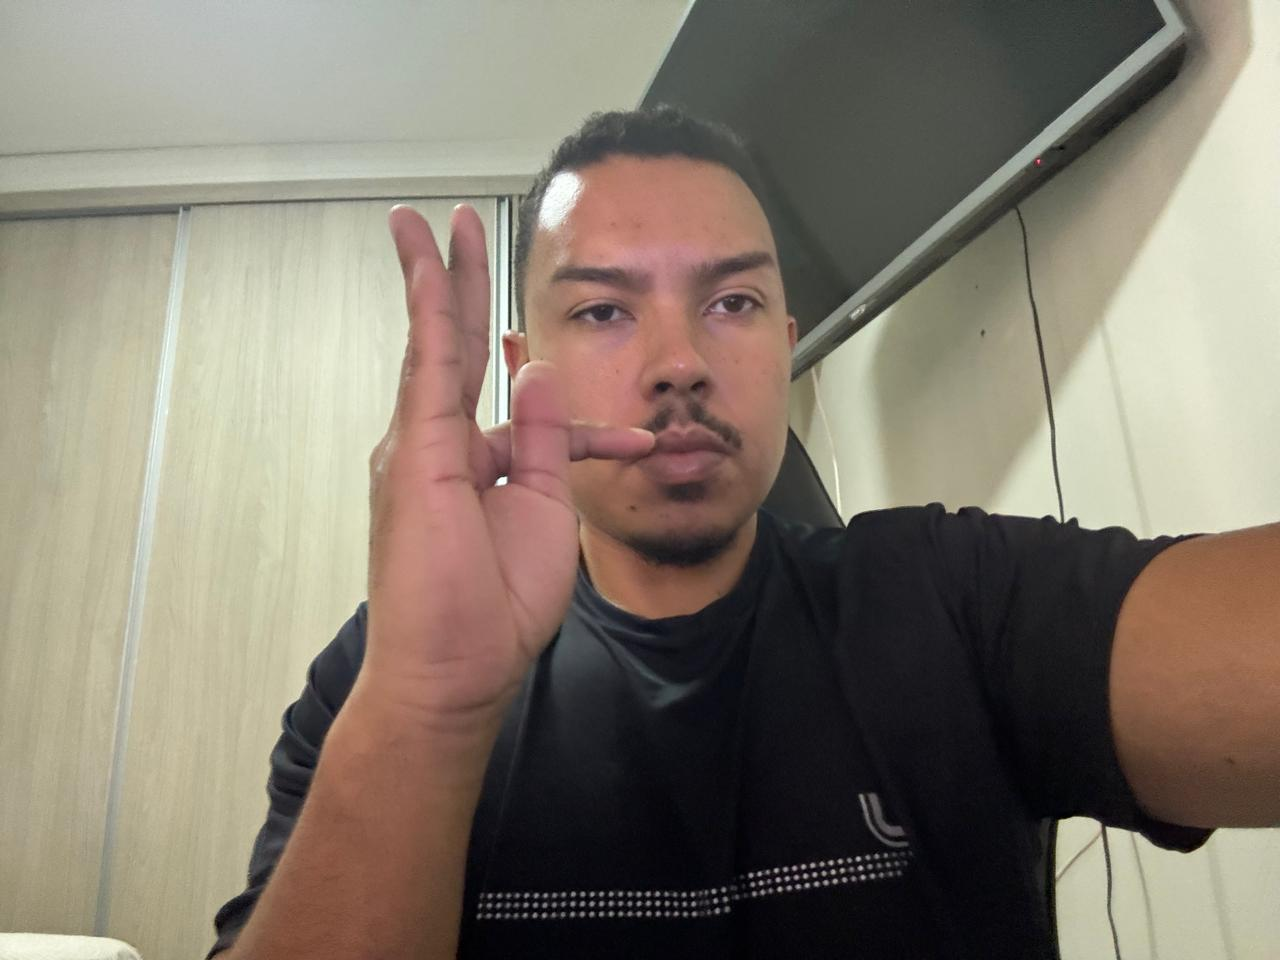t: (352, 192, 659, 723)
